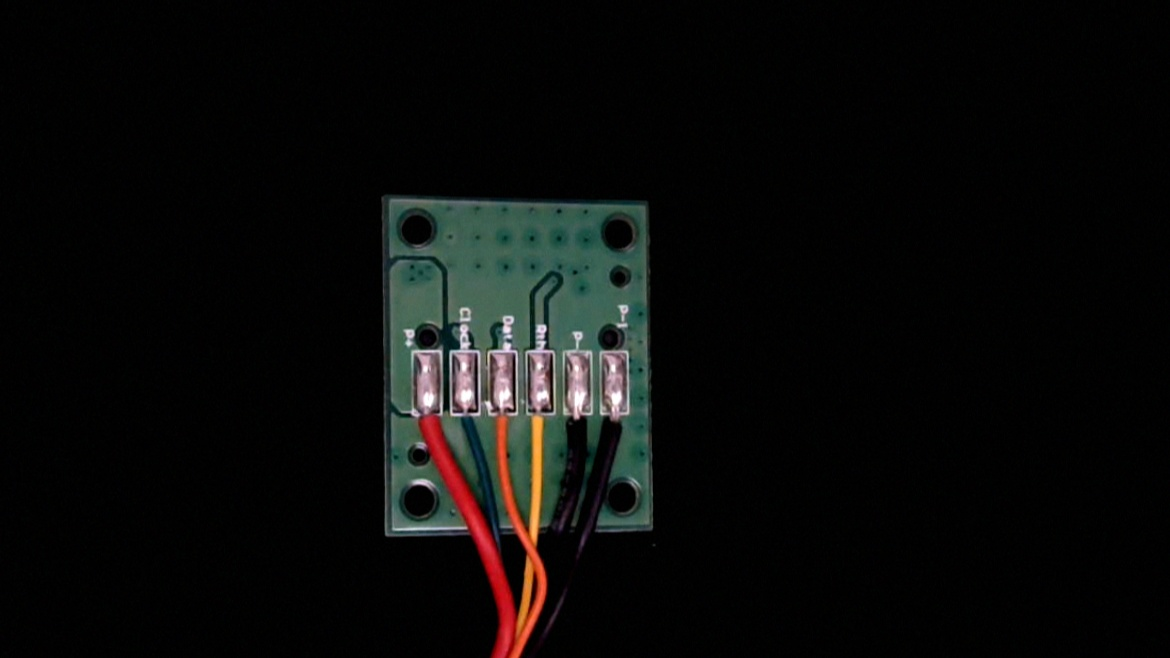Black: (562, 397, 595, 471)
Black1: (600, 397, 632, 465)
Green: (453, 396, 484, 460)
Orange: (486, 398, 518, 472)
Red: (409, 398, 443, 470)
Yellow: (523, 396, 556, 472)
